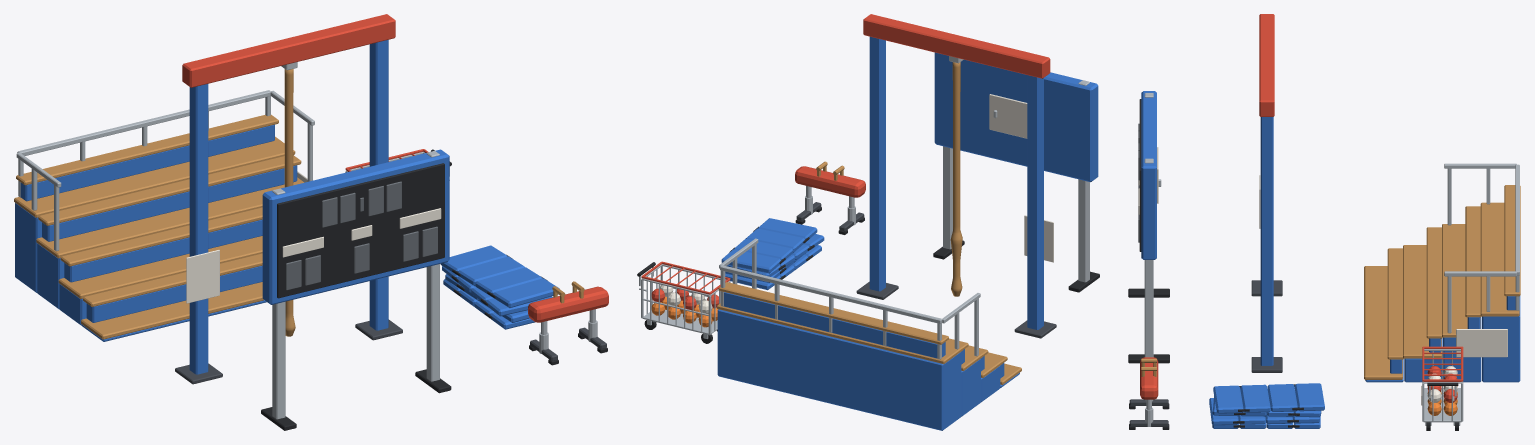
Rendered from school-gym-set.glb.
3 views of the same model, side by side, from view 1: azimuth 30°, elevation 25°; view 2: azimuth 150°, elevation 25°; view 3: azimuth 270°, elevation 25° (orthographic). The views are drawn at different scales.
Parts seen in each view (by area): view 1: Scoreboard_Face, RopeFrame_Beam, Scoreboard_Frame, RopeFrame_Post_L, Bleachers_Deck4, Bleachers_BenchSupport4, Bleachers_BenchSupport3, Mat_4, Bleachers_Deck3, RopeFrame_Post_R, Bleachers_Deck2, Bleachers_BenchSupport2 (+19 smaller); view 2: Bleachers_Riser4, Scoreboard_Frame, RopeFrame_Beam, RopeFrame_Post_L, RopeFrame_Post_R, Bleachers_BenchSupport4, Mat_4, Seat_Row4, BallCart_Cage, Bleachers_BackRail, Rope, Door (+12 smaller); view 3: RopeFrame_Post_R, Mat_4, Bleachers_Deck1, Bleachers_Deck2, Bleachers_Deck4, Scoreboard_Frame, Bleachers_Deck3, Bleachers_Riser4, Seat_Row1, Seat_Row2, Seat_Row3, RopeFrame_Beam (+16 smaller).
Part boxes in pixels (x1,y1,x2,y2): Scoreboard_Face: (277, 163, 444, 298); RopeFrame_Beam: (182, 14, 395, 87); Scoreboard_Frame: (262, 149, 449, 304); RopeFrame_Post_L: (189, 84, 208, 374); Bleachers_Deck4: (14, 136, 295, 217); Bleachers_BenchSupport4: (20, 124, 274, 201); Bleachers_BenchSupport3: (42, 165, 297, 241); Mat_4: (440, 245, 559, 308); Bleachers_Deck3: (36, 177, 303, 258); RopeFrame_Post_R: (369, 40, 388, 330); Bleachers_Deck2: (58, 236, 262, 298); Bleachers_BenchSupport2: (64, 219, 262, 282); Bleachers_Riser4: (717, 309, 961, 430); Scoreboard_Frame: (934, 52, 1098, 182); RopeFrame_Beam: (863, 14, 1050, 78); RopeFrame_Post_L: (1027, 75, 1043, 329); RopeFrame_Post_R: (869, 36, 885, 291); Bleachers_BenchSupport4: (724, 292, 945, 358); Mat_4: (721, 218, 817, 273); Seat_Row4: (718, 282, 948, 344); BallCart_Cage: (639, 264, 730, 335); Bleachers_BackRail: (720, 265, 942, 359); Rope: (950, 62, 962, 296); Door: (989, 94, 1027, 138); RopeFrame_Post_R: (1260, 117, 1273, 365); Mat_4: (1213, 383, 1324, 413); Bleachers_Deck1: (1364, 266, 1402, 379); Bleachers_Deck2: (1403, 245, 1441, 358); Bleachers_Deck4: (1480, 202, 1519, 316); Scoreboard_Frame: (1141, 91, 1156, 259); Bleachers_Deck3: (1442, 224, 1480, 337); Bleachers_Riser4: (1482, 296, 1520, 382); Seat_Row1: (1387, 248, 1403, 359); Seat_Row2: (1426, 227, 1442, 338); Seat_Row3: (1465, 206, 1481, 317); RopeFrame_Beam: (1259, 14, 1274, 116).
Size of the model in its own units: 29.97 by 23.1 by 30.27.
